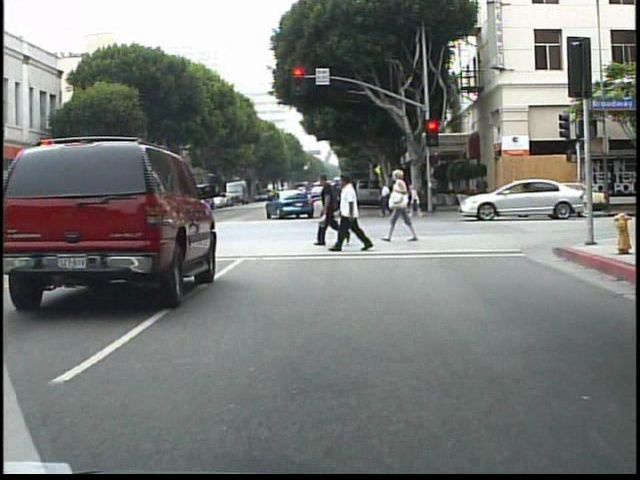person: (328, 171, 377, 254), (387, 168, 418, 246), (320, 168, 344, 252), (338, 174, 359, 222), (148, 184, 164, 232), (330, 180, 349, 220), (127, 186, 144, 230), (4, 196, 20, 239), (472, 169, 492, 198), (379, 179, 392, 221), (4, 199, 18, 236), (345, 175, 346, 223)
